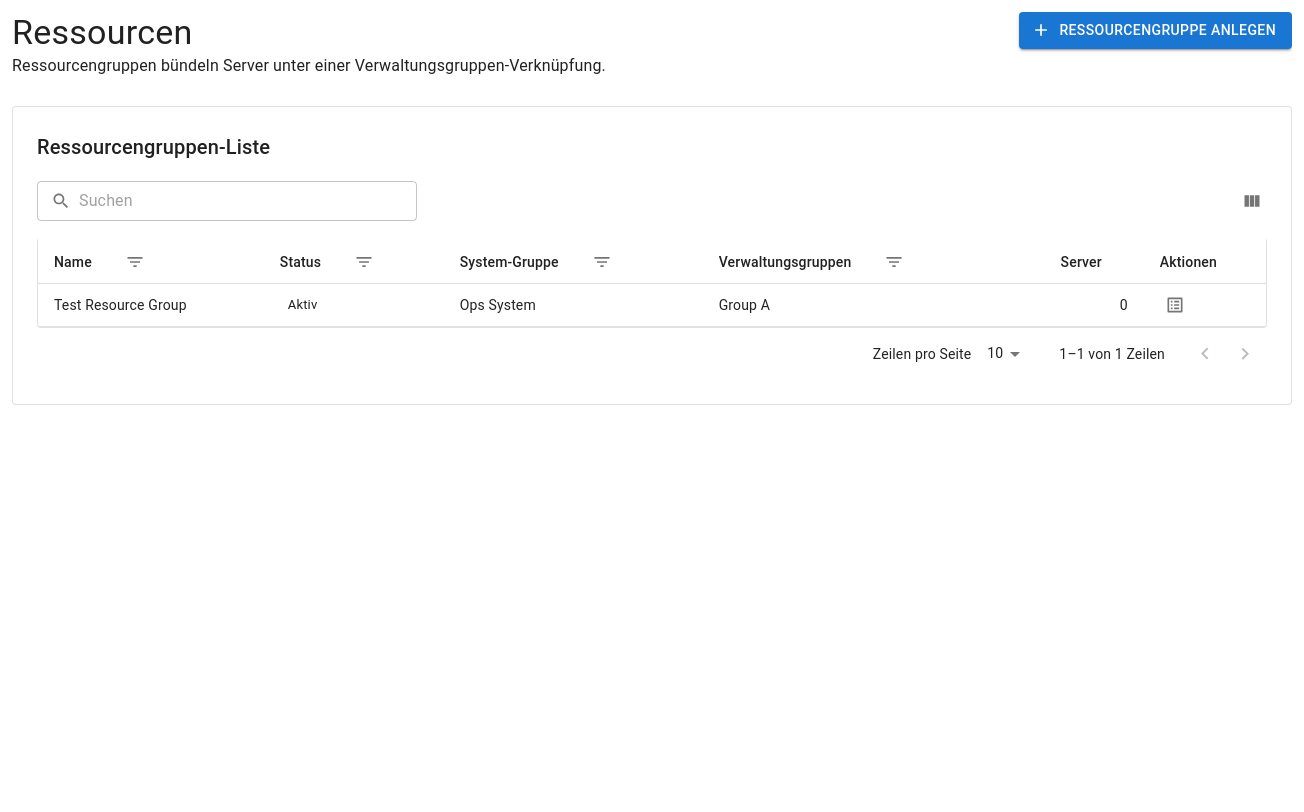
it: pre-fills the group's linked admin groups and saves the edited set via its own button
Click the button named "Details": (1175, 305) [1160,290,1190,320]
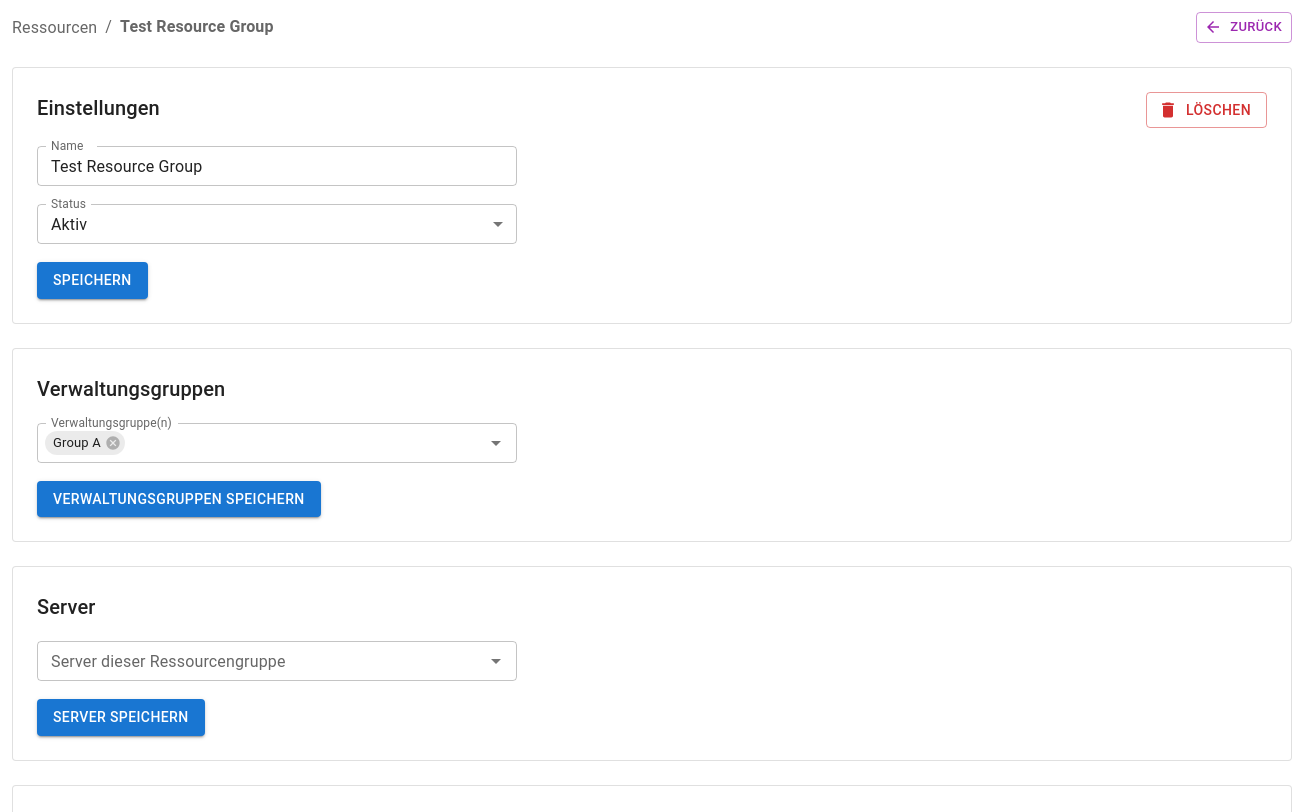
Expected: the heading "Verwaltungsgruppen" is shown, [37,373,225,405]
Now the text "Group A" is shown, box [53,435,101,450]
Press the mouse on the dropdown labelled "Verwaltungsgruppe(n)": (289, 443) [127,429,452,457]
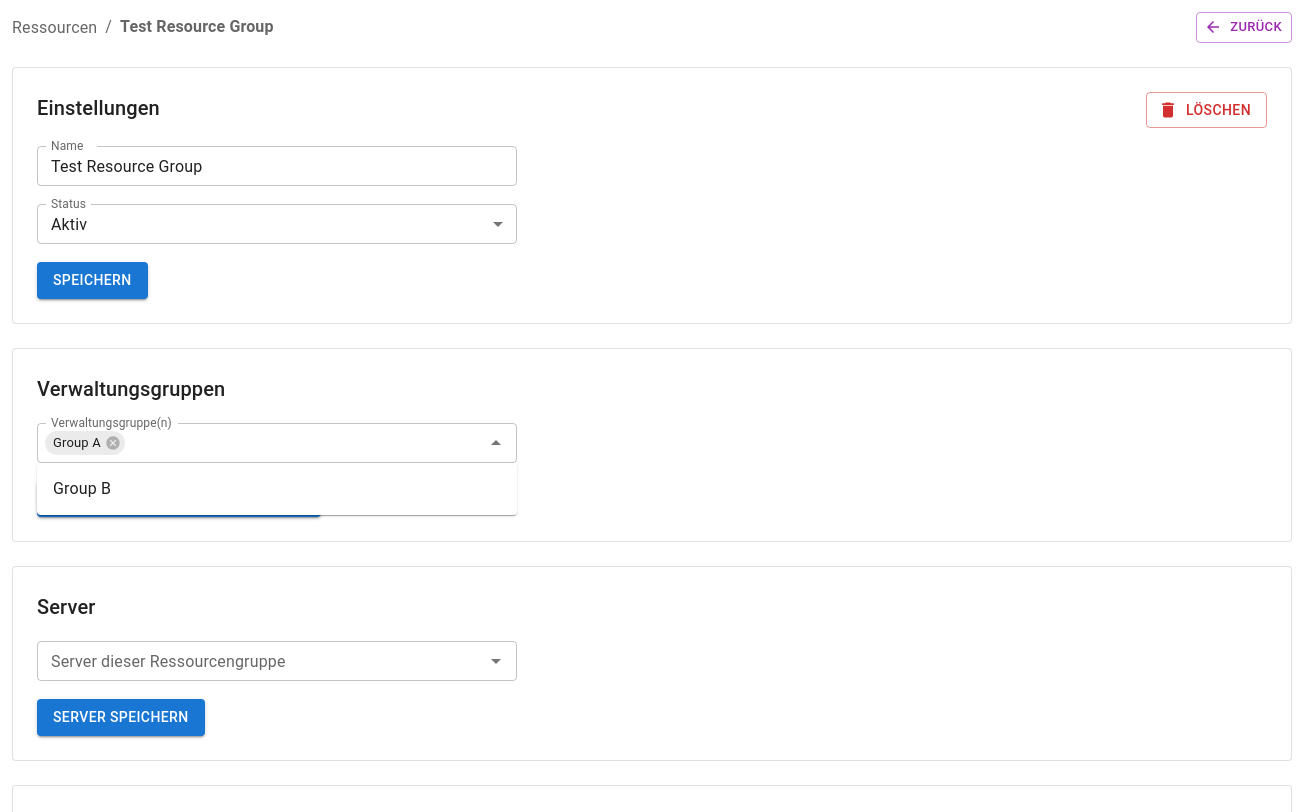
Click the option "Group B": (82, 488) [53,479,111,498]
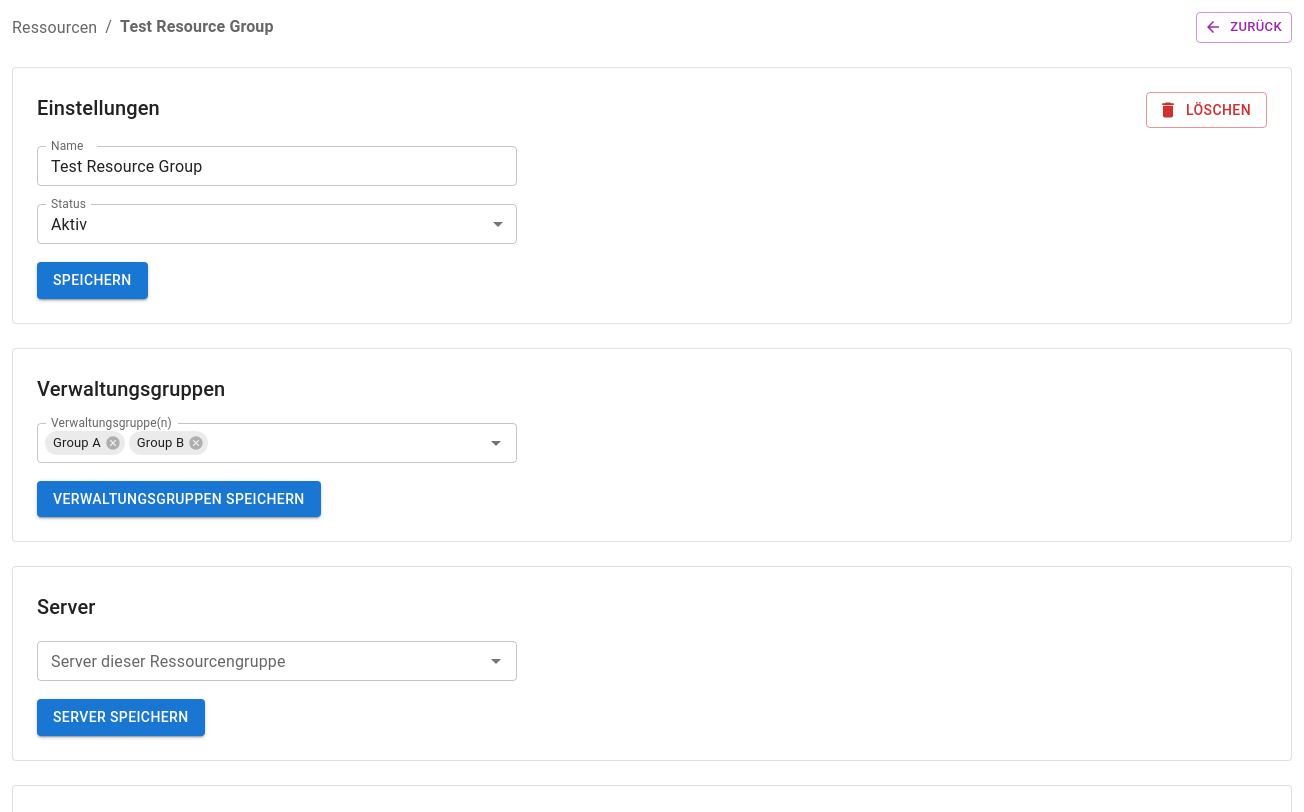
Click the button "Verwaltungsgruppen speichern": (179, 499) [37,481,321,517]
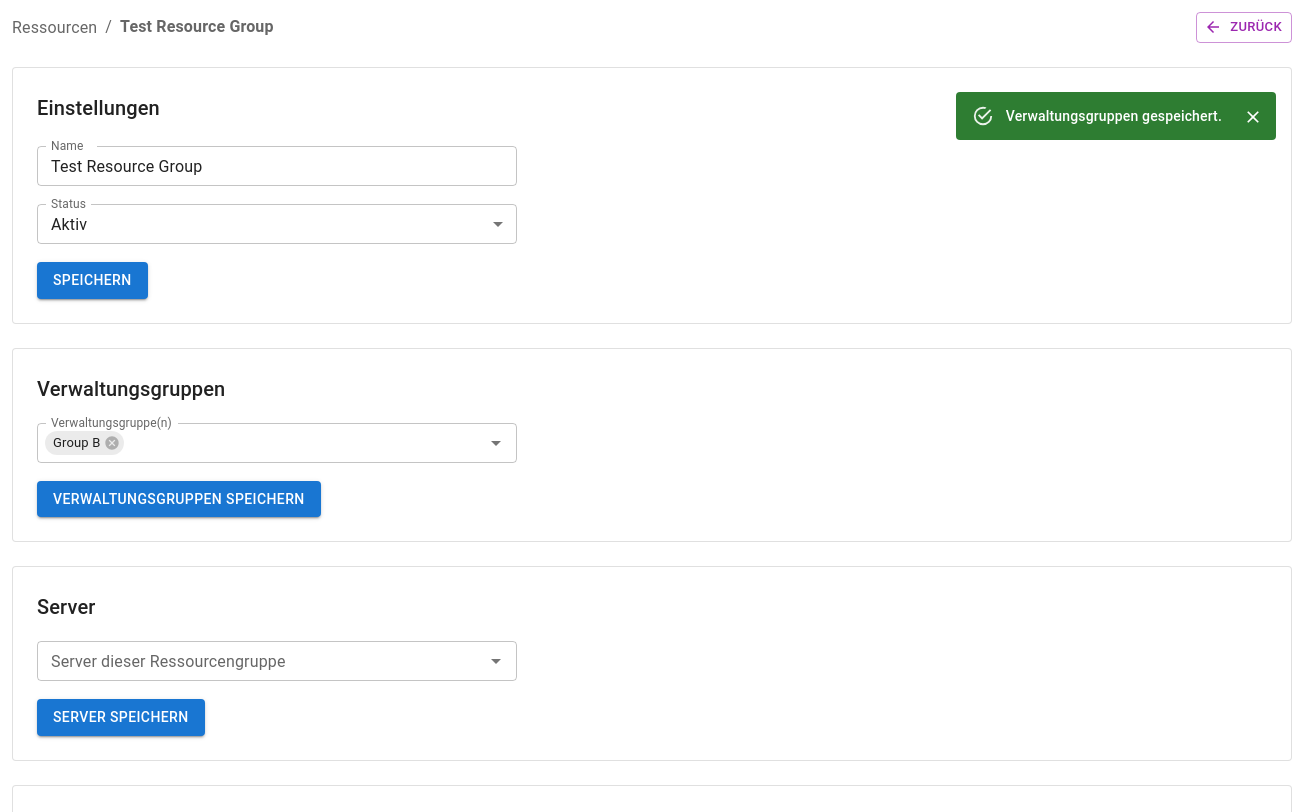
Now the text "Verwaltungsgruppen gespeichert." is shown, box [1006,108,1222,124]
